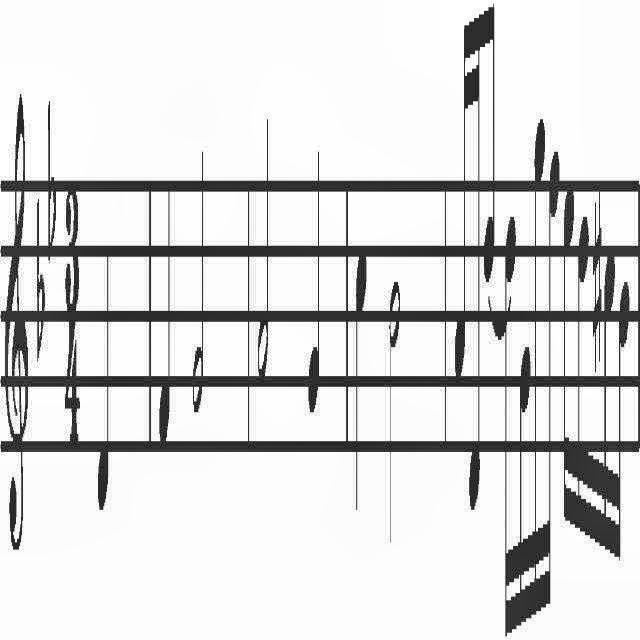Bass-clef: (2, 61, 32, 564)
Bemol: (45, 103, 59, 259), (34, 198, 46, 362)
Diez: (589, 162, 603, 382)
Eighth-note: (482, 0, 498, 286)
Half-note: (187, 144, 209, 456), (254, 114, 276, 413), (385, 260, 403, 588)
Quarter-note: (300, 102, 328, 438), (88, 246, 118, 530), (156, 162, 176, 470), (353, 223, 371, 552)
Sixteenth-note: (448, 0, 468, 400), (546, 120, 562, 608), (470, 1, 482, 564), (532, 95, 544, 620), (561, 139, 575, 573), (602, 211, 616, 585), (504, 205, 516, 640), (516, 324, 532, 640), (617, 260, 631, 600), (578, 186, 590, 564)
